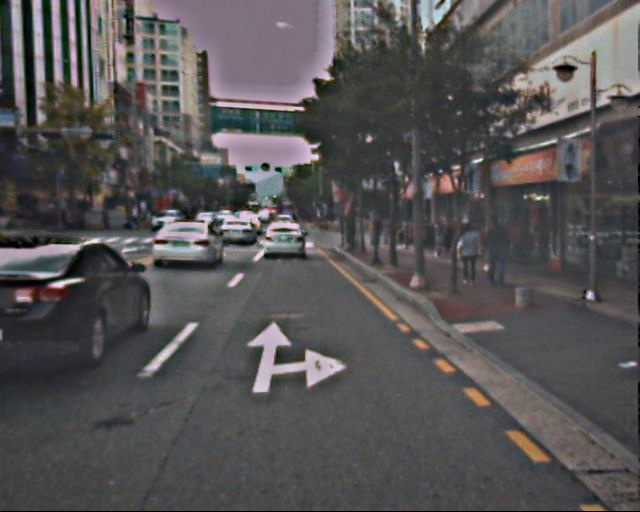person: (481, 212, 511, 285), (455, 220, 482, 285)
